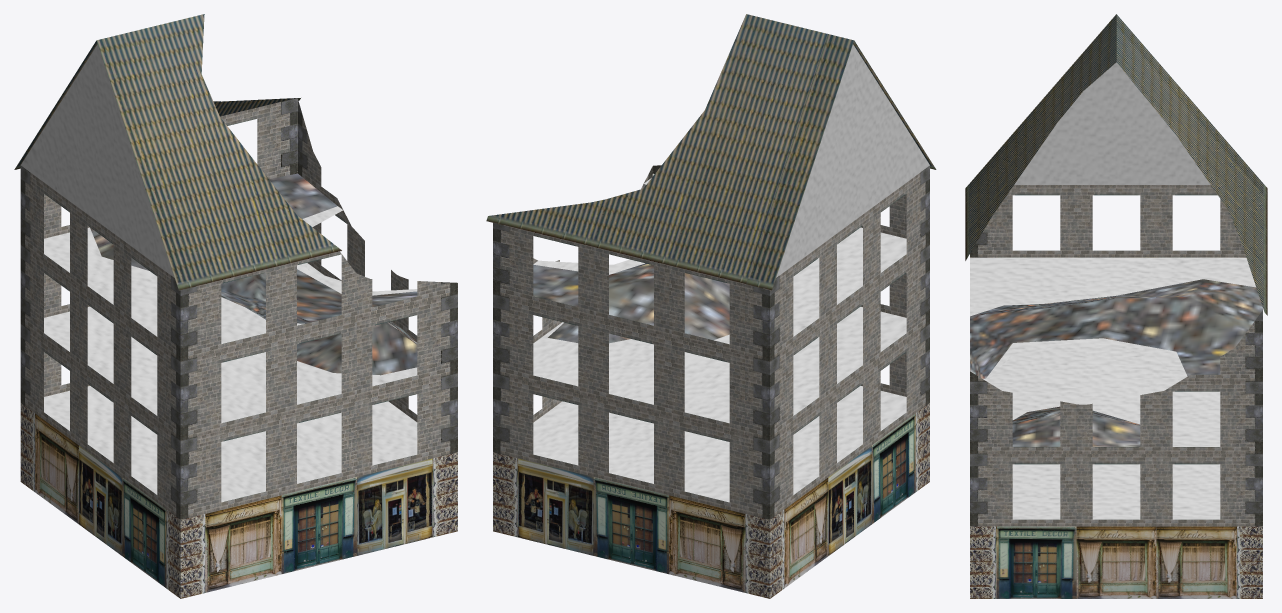
Rendered from House_007_destroyed_001.dae.
3 views of the same model, side by side, from view 1: azimuth 30°, elevation 25°; view 2: azimuth 150°, elevation 25°; view 3: azimuth 270°, elevation 25° (orthographic). The views are drawn at different scales.
Visible parts, largest first — view 1: House_007; view 2: House_007; view 3: House_007.
Boxes of the visible parts, <box> form: House_007: <box>14,14,457,598</box>; House_007: <box>486,14,936,598</box>; House_007: <box>965,14,1267,598</box>.
Size of the model in its own units: 90.64 by 90.64 by 152.
Materials: 1 (1 with a texture image).
